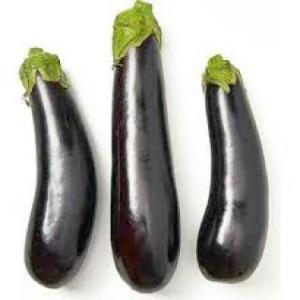eggplant: (106, 6, 178, 292), (19, 47, 96, 285), (197, 52, 269, 282)
